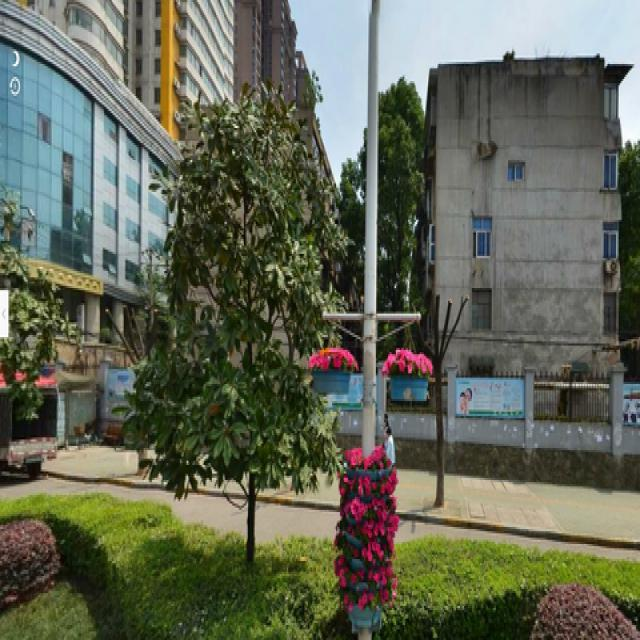magn: (150, 85, 342, 561)
